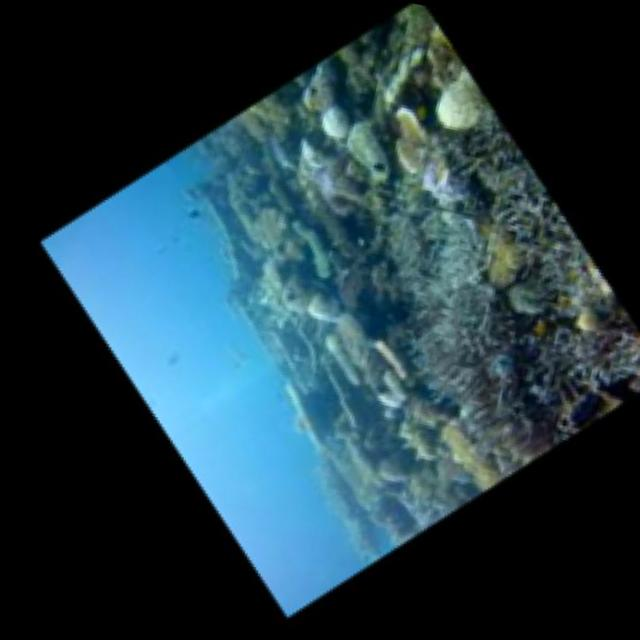Dead Coral: (387, 246, 550, 454), (406, 96, 582, 270), (515, 288, 640, 418)
